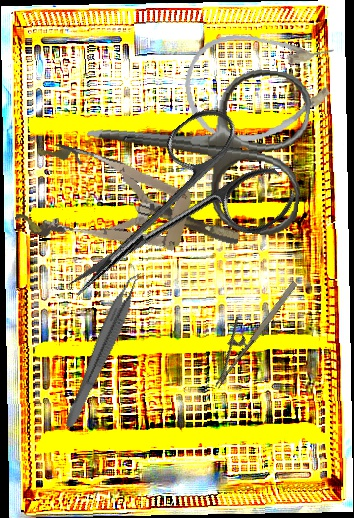Cannula: (179, 21, 345, 150)
Iris Scissors: (34, 95, 301, 346), (77, 49, 315, 239)
Needle Holder: (194, 267, 301, 390)
Speculum: (12, 137, 251, 286)
Tissue Forceps: (62, 267, 147, 433)
